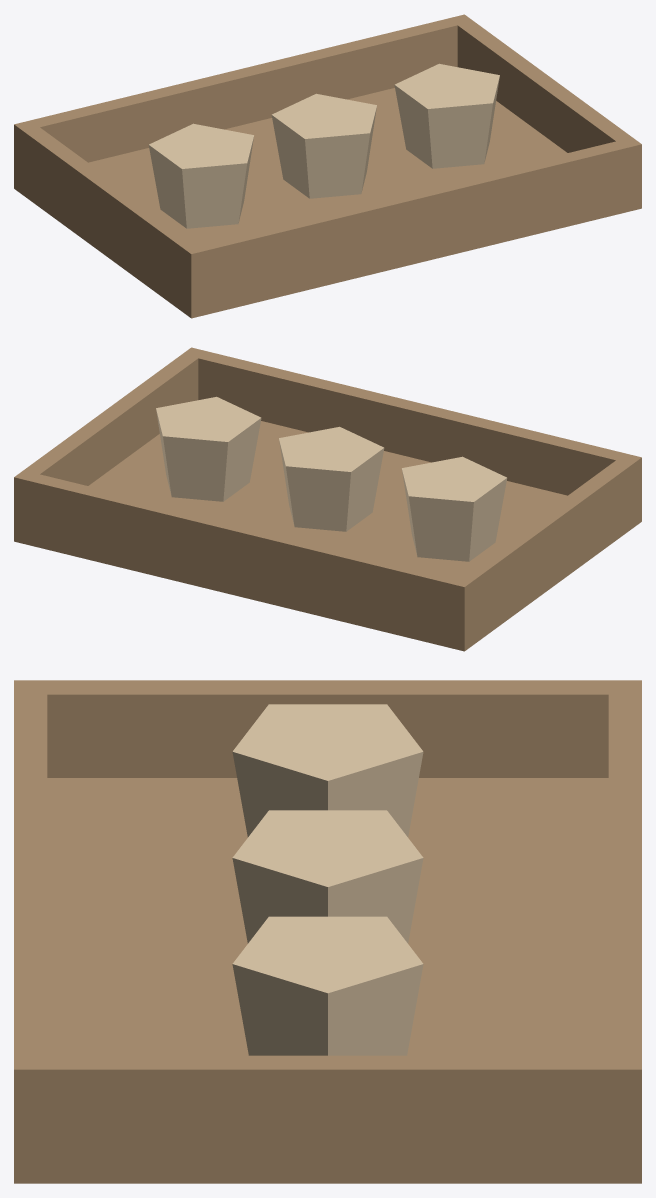
Rendered from prop-bung-tray-bb1.fbx.
3 views of the same model, one above another, from view 1: azimuth 30°, elevation 25°; view 2: azimuth 150°, elevation 25°; view 3: azimuth 270°, elevation 25° (orthographic). The views are drawn at different scales.
Visible parts, largest first — view 1: prop-bung-tray-bb1; view 2: prop-bung-tray-bb1; view 3: prop-bung-tray-bb1.
Boxes of the visible parts, x1,y1,x2,y2 form: prop-bung-tray-bb1: (14,14,641,318); prop-bung-tray-bb1: (14,347,641,651); prop-bung-tray-bb1: (14,680,641,1183).
Bounding box in the file's own units: 22 × 3.8 × 15.
